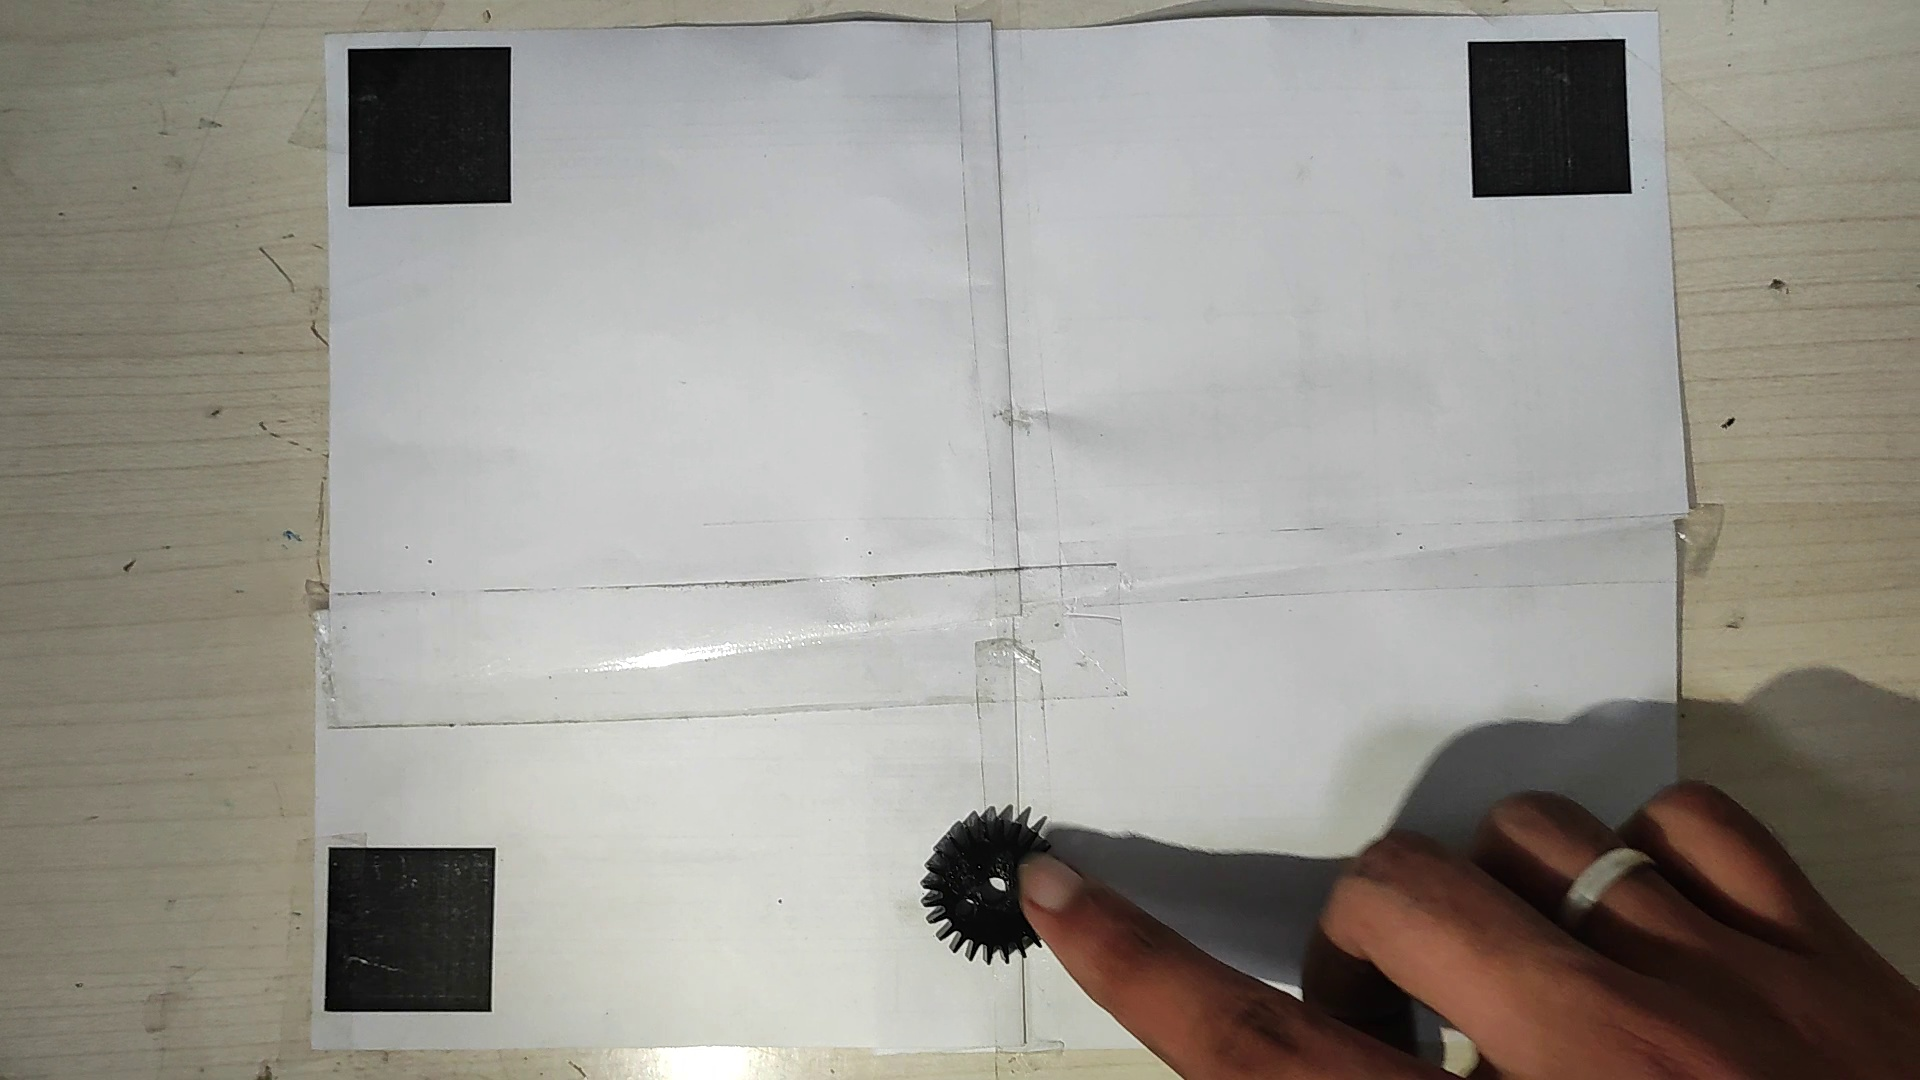Gear: (915, 803, 1070, 965)
